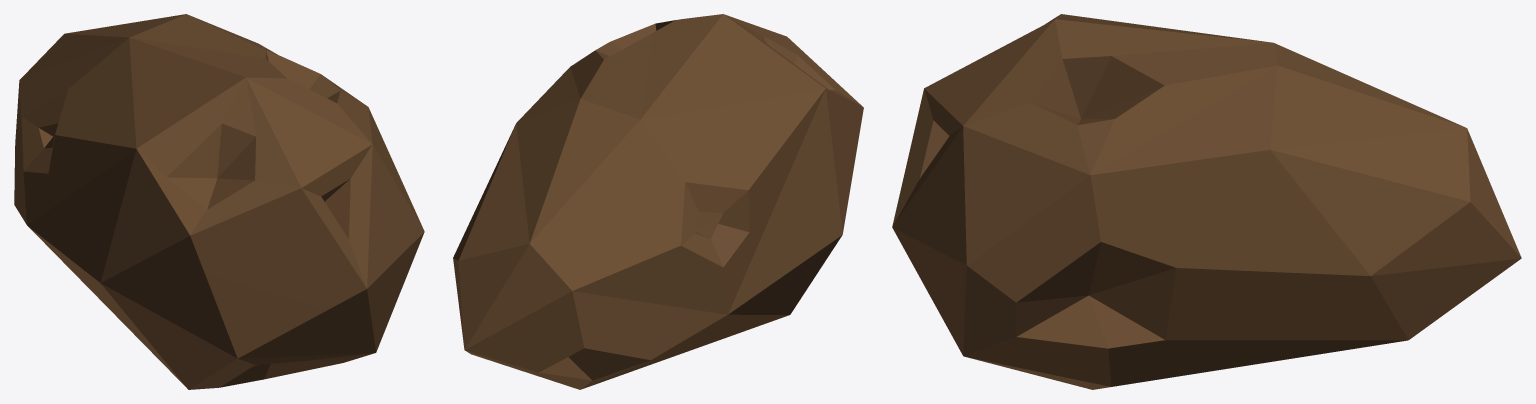
The model's file is asteroid.glb.
The picture shows the model from 3 angles, left to right: view 1: azimuth 30°, elevation 25°; view 2: azimuth 150°, elevation 25°; view 3: azimuth 270°, elevation 25°; orthographic projection. The views are drawn at different scales.
Visible parts, largest first — view 1: asteroid; view 2: asteroid; view 3: asteroid.
Part boxes in pixels (left/top/right/bottom): asteroid: left=14, top=14, right=424, bottom=389; asteroid: left=453, top=14, right=863, bottom=389; asteroid: left=892, top=14, right=1521, bottom=389.
Bounding box in the file's own units: 2.94 × 3.11 × 5.09.
Materials: 1 (1 with a texture image).
